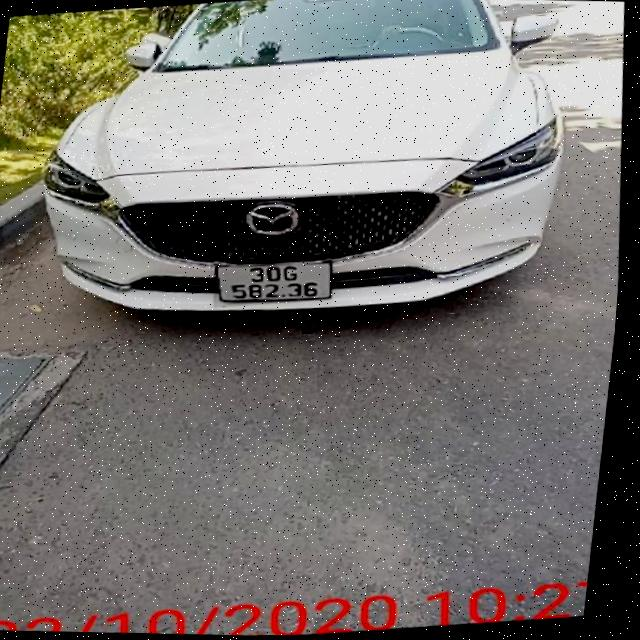car: (34, 0, 592, 342)
plate: (204, 251, 344, 313)
